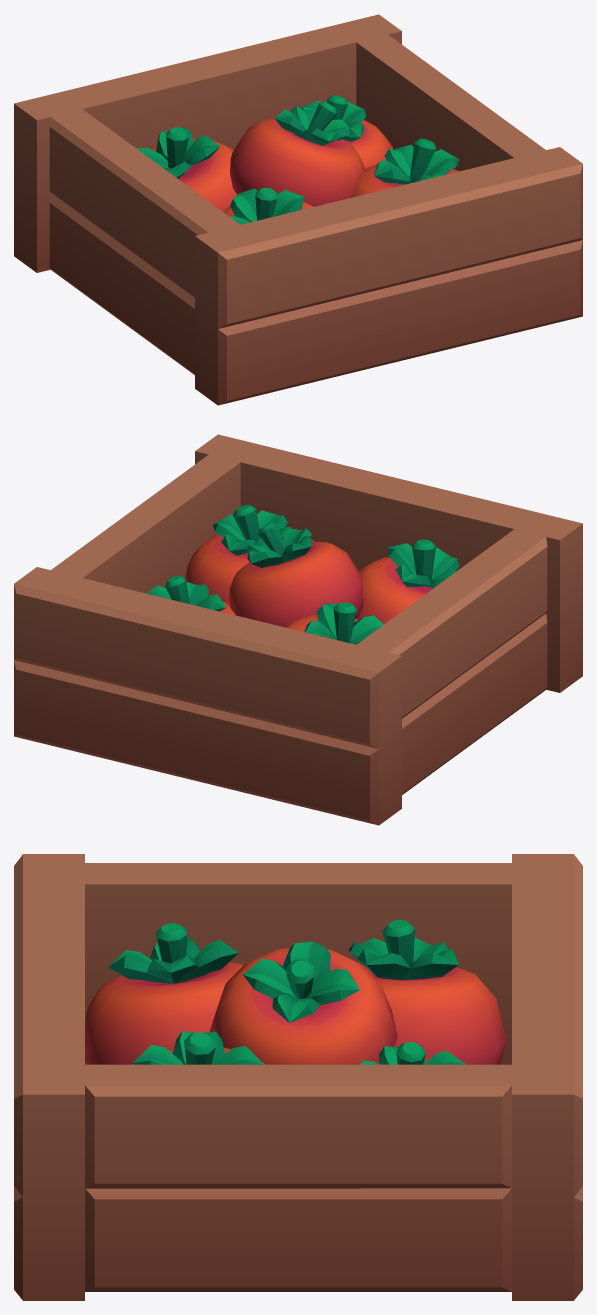
File: Crate of Tomatoes.glb
3 views of the same model, one above another, from view 1: azimuth 30°, elevation 25°; view 2: azimuth 150°, elevation 25°; view 3: azimuth 270°, elevation 25° (orthographic). The views are drawn at different scales.
Visible parts, largest first — view 1: crate_tomatoes; view 2: crate_tomatoes; view 3: crate_tomatoes.
Boxes of the visible parts, x1,y1,x2,y2 form: crate_tomatoes: [14, 14, 582, 405]; crate_tomatoes: [14, 434, 582, 825]; crate_tomatoes: [14, 854, 582, 1300].
Bounding box in the file's own units: 2 × 0.9233 × 2.
Materials: 1 (1 with a texture image).
